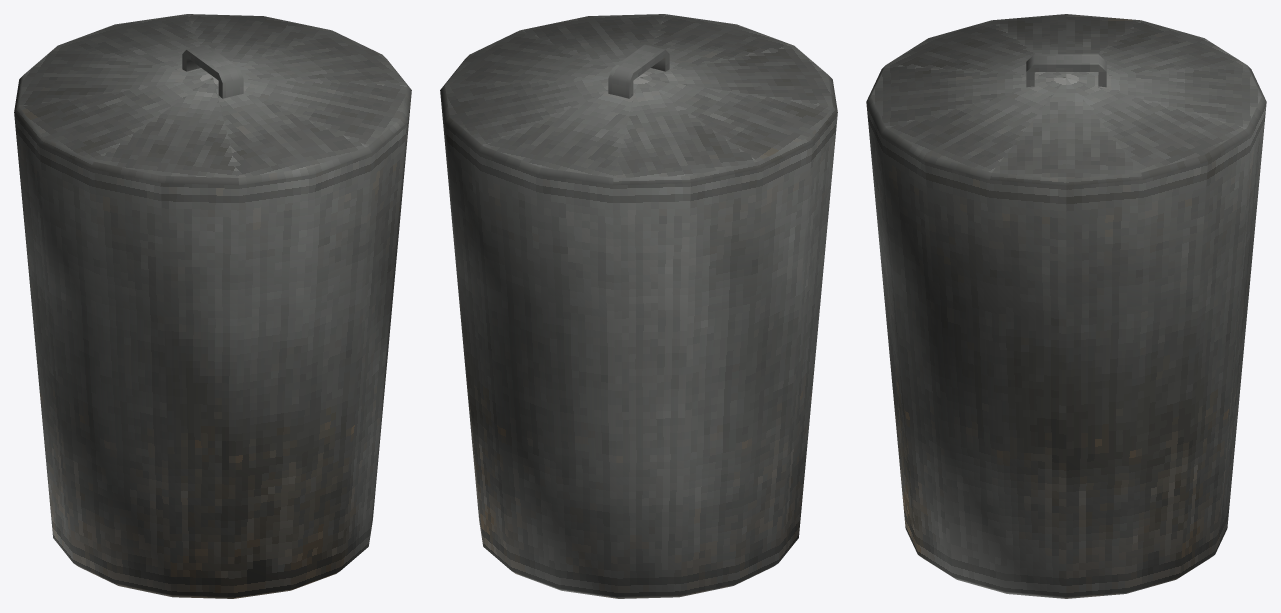
File: trashcan.glb
3 renders of one model, left to right at view 1: azimuth 30°, elevation 25°; view 2: azimuth 150°, elevation 25°; view 3: azimuth 270°, elevation 25°, orthographic.
Visible parts, largest first — view 1: Cylinder_0; view 2: Cylinder_0; view 3: Cylinder_0.
Part boxes in pixels (x1,y1,x2,y2): Cylinder_0: (14, 14, 411, 598); Cylinder_0: (440, 14, 837, 598); Cylinder_0: (866, 14, 1266, 598).
Bounding box in the file's own units: 0.4989 × 0.6516 × 0.4989.
1 material, 1 textured.
